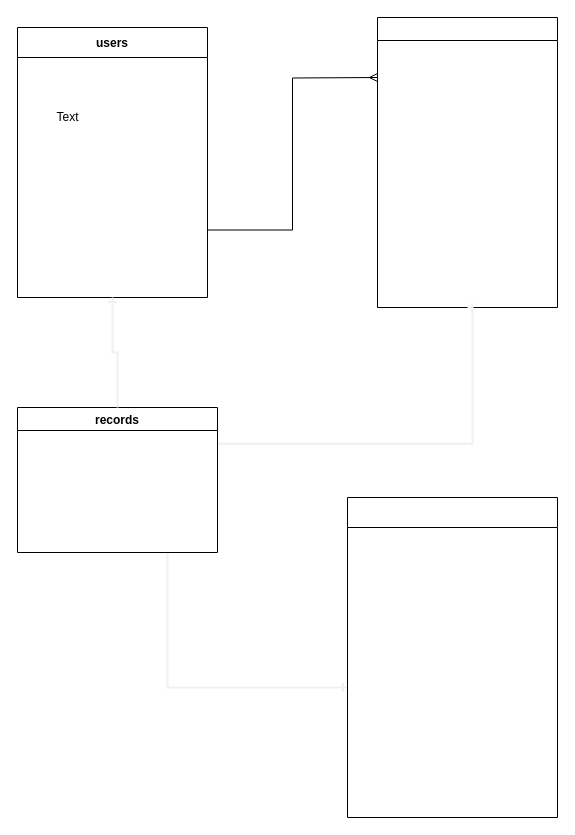
The diagram is 575 pixels wide and 835 high, and some of its shapes have lost their labels. Here are the shapes that lost their labels. From the top down, the centre of each, then its label:
point 467,162: items
point 452,657: addresses
